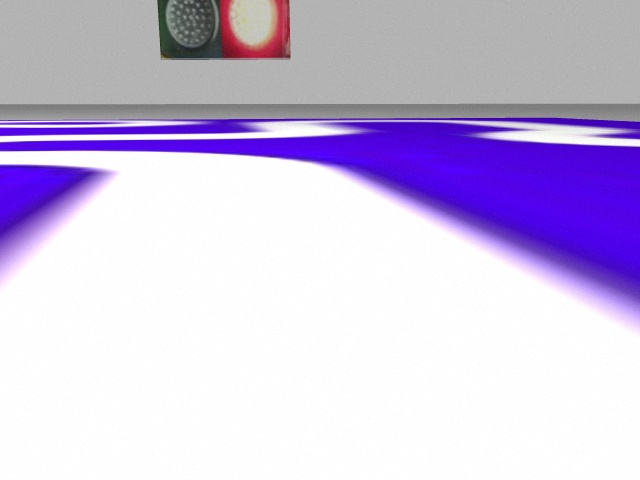red: (219, 1, 290, 58)
